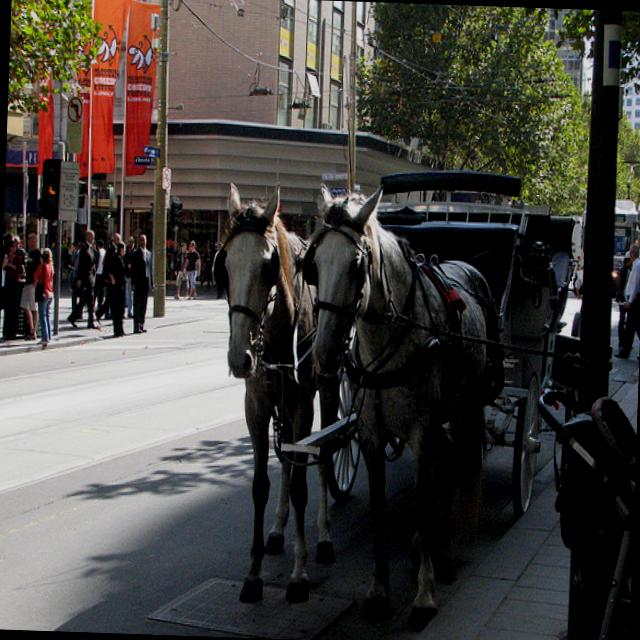Vehicle: (610, 197, 640, 283)
